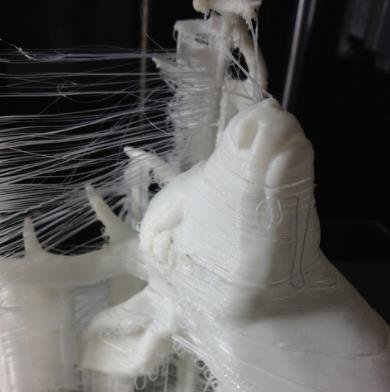fail: (2, 28, 204, 260), (1, 271, 150, 367), (216, 9, 290, 128), (131, 331, 232, 392)
